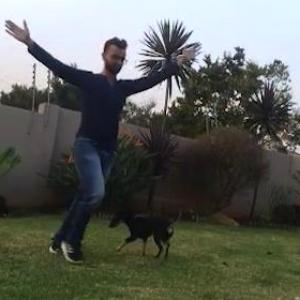takeoff: (15, 18, 171, 239)
